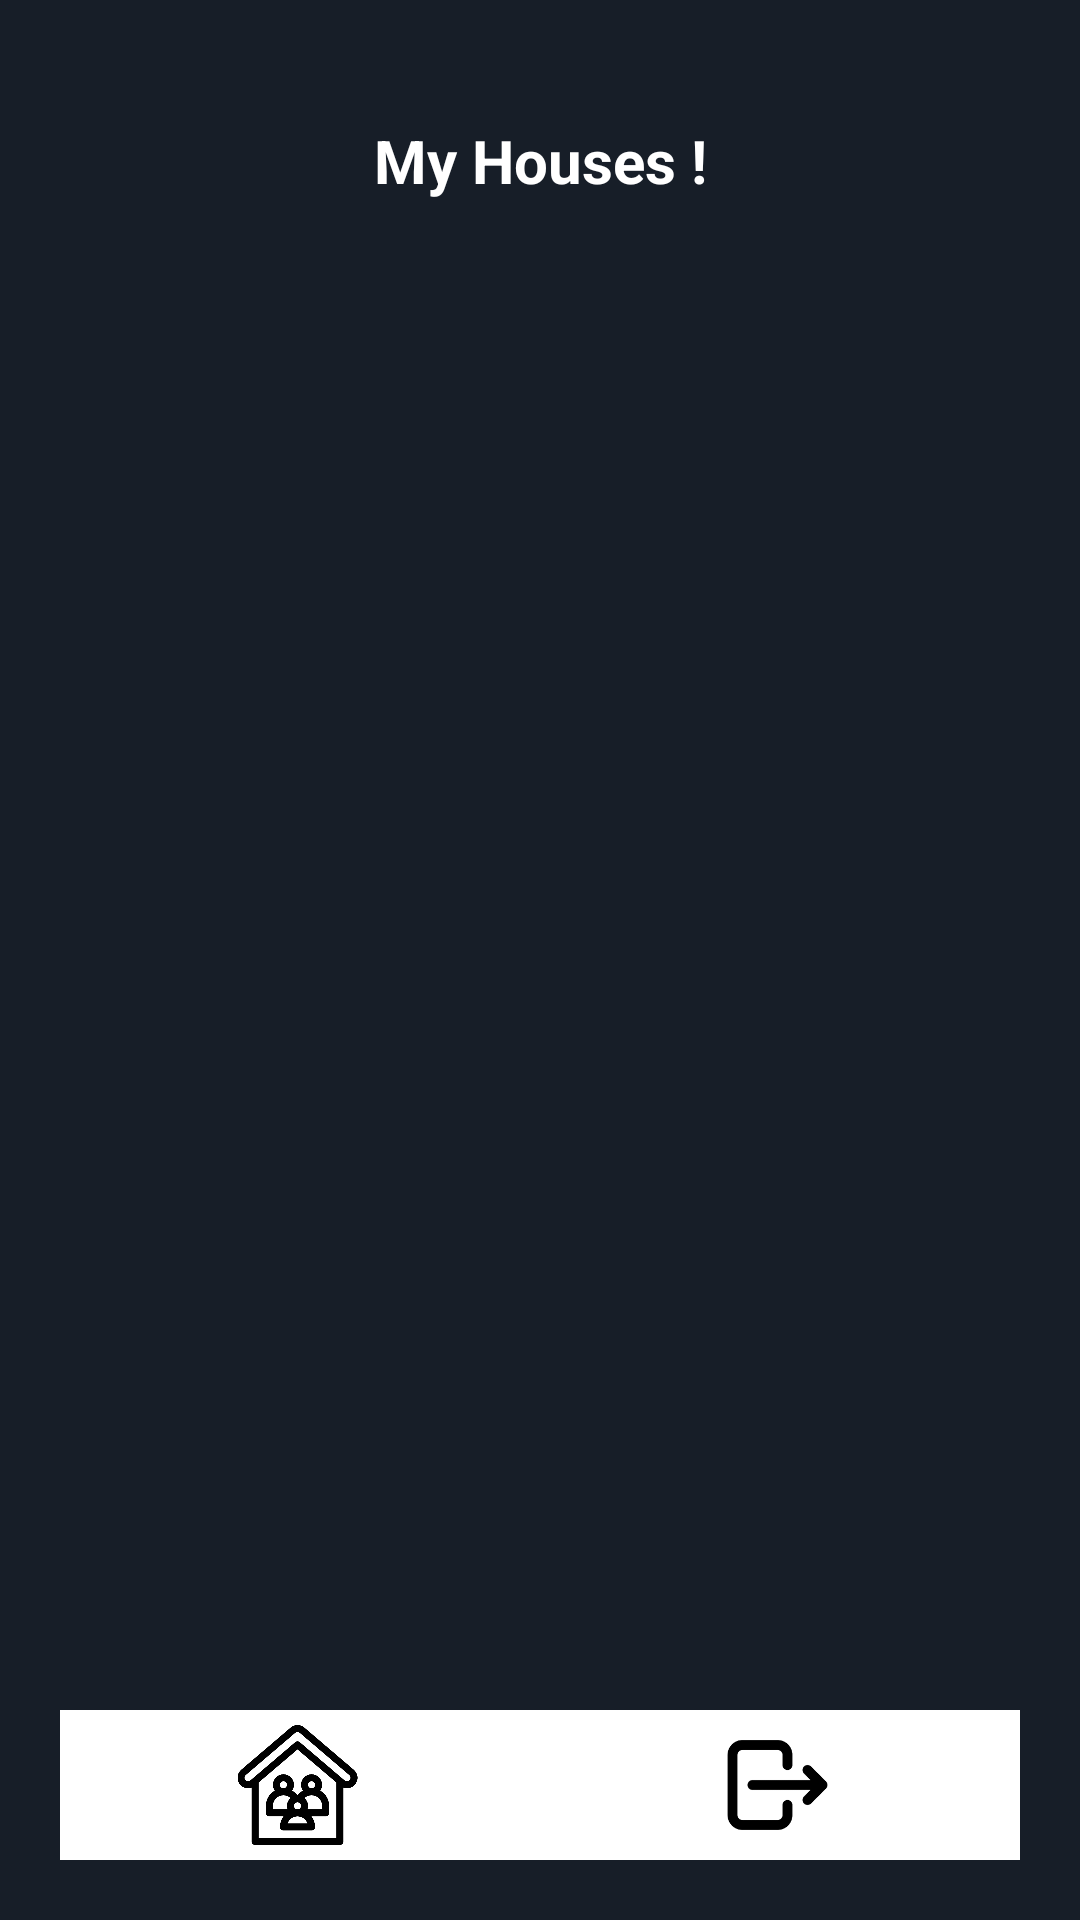

Icons on this 1080*1920 Android screen, each with its box as bbox(x1, y1, x2, y2):
houseuserssss: bbox(238, 1725, 358, 1845)
